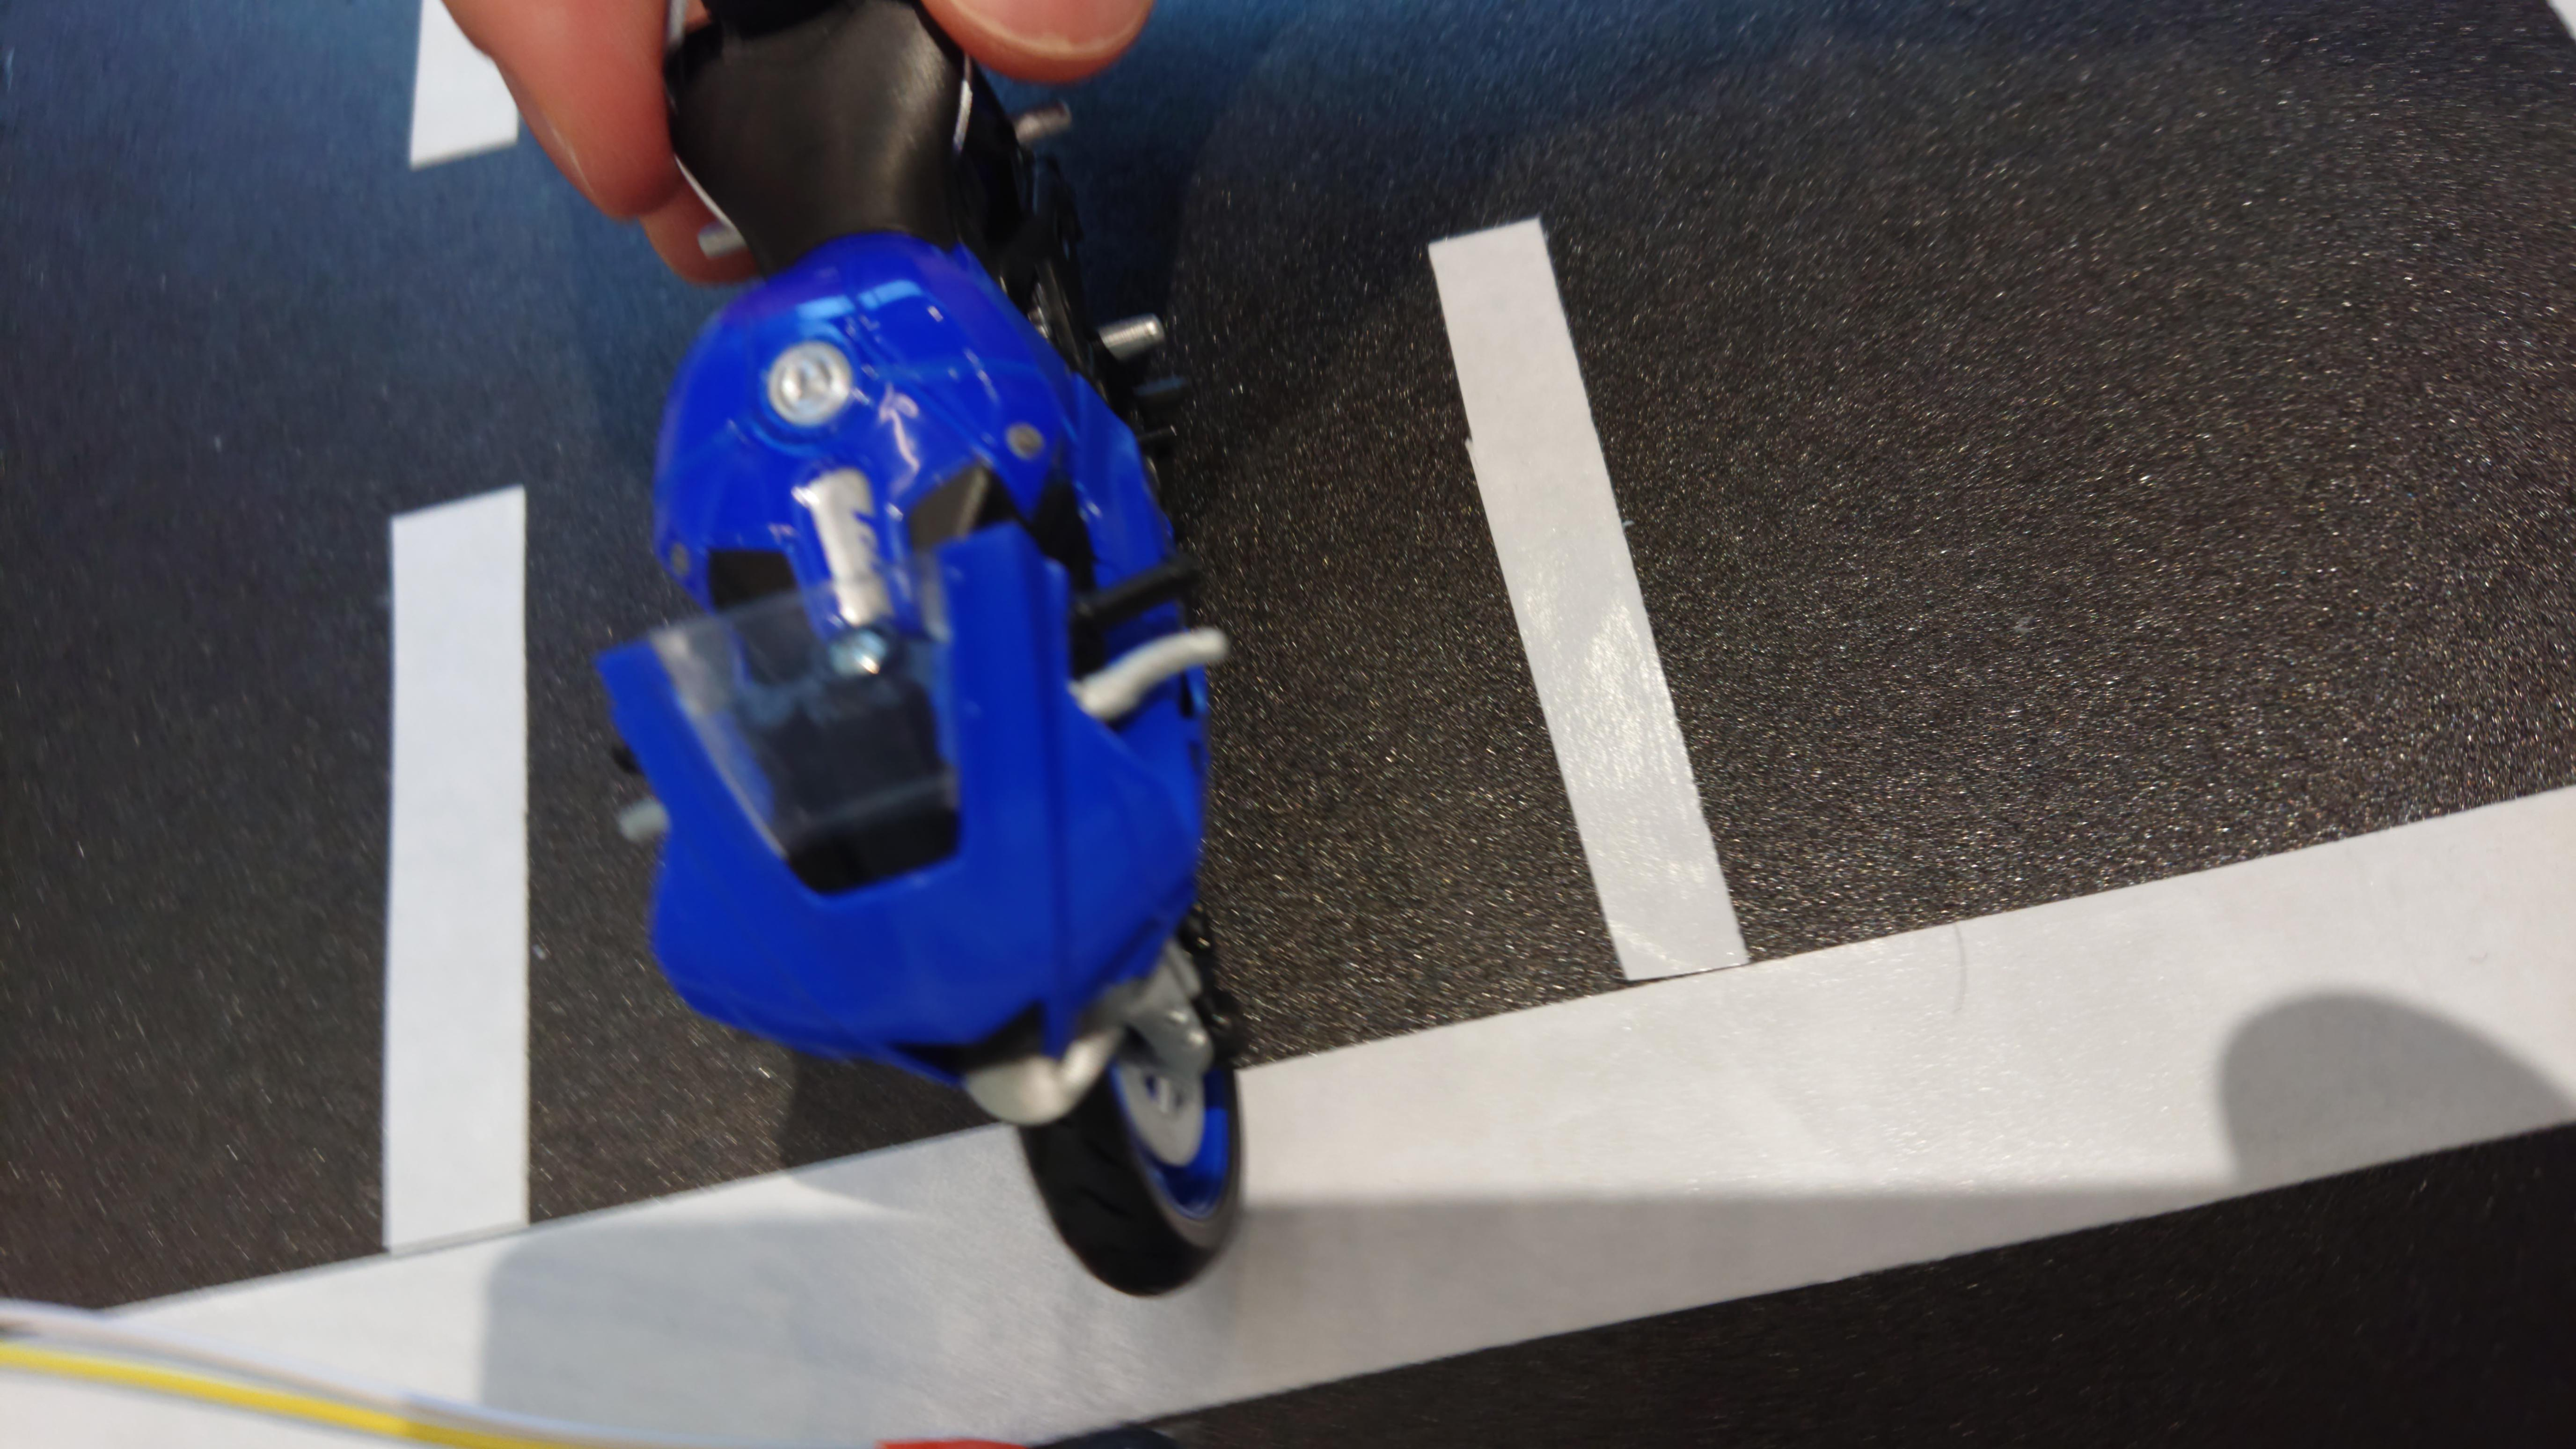Motorcycle: (594, 0, 1325, 1332)
